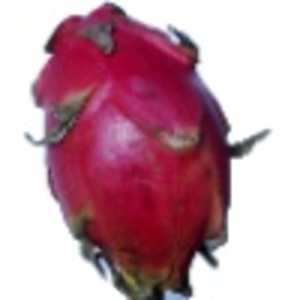pitaia: (26, 1, 270, 300)
